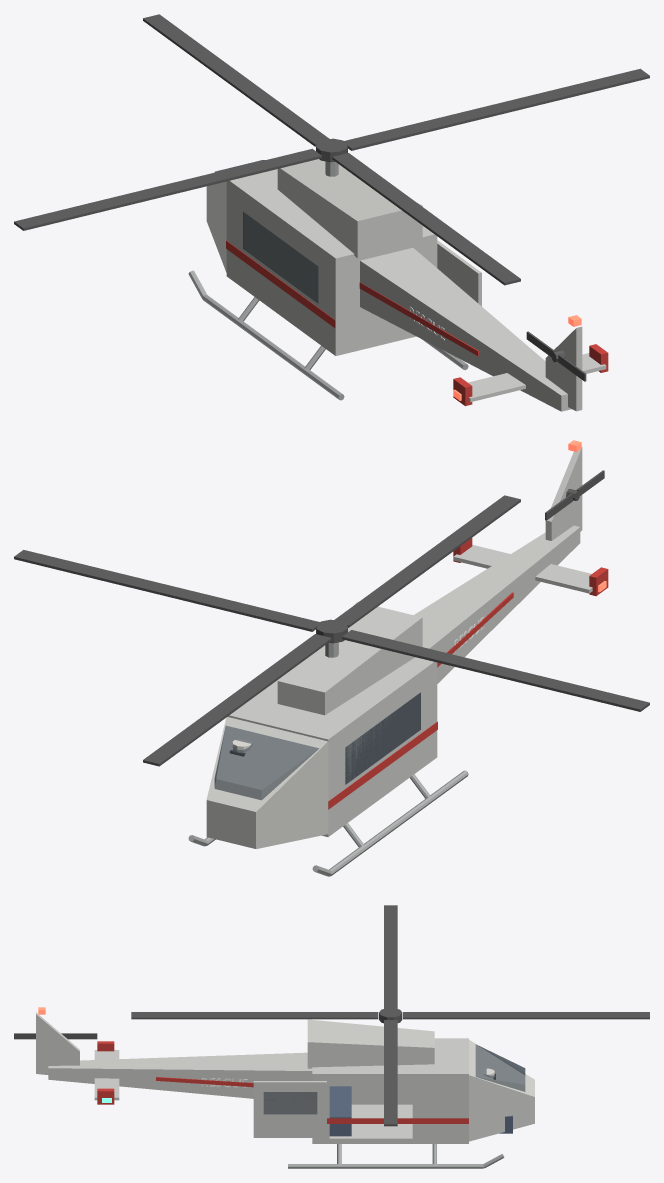
The model's file is helicopter.glb.
3 renders of one model, top to bottom at view 1: azimuth 30°, elevation 25°; view 2: azimuth 150°, elevation 25°; view 3: azimuth 270°, elevation 25°, orthographic. The views are drawn at different scales.
Parts seen in each view (by area): view 1: Body, MainRotor, TailRotor; view 2: Body, MainRotor, TailRotor; view 3: Body, MainRotor, TailRotor.
Part boxes in pixels (bbox=[...]): Body: bbox=[188, 159, 608, 411]; MainRotor: bbox=[14, 14, 649, 285]; TailRotor: bbox=[526, 331, 586, 381]; Body: bbox=[188, 440, 608, 876]; MainRotor: bbox=[14, 495, 649, 766]; TailRotor: bbox=[545, 470, 604, 520]; Body: bbox=[36, 1007, 534, 1168]; MainRotor: bbox=[131, 905, 649, 1126]; TailRotor: bbox=[14, 1033, 97, 1039].
Size of the model in its own units: 10.6 by 3.12 by 13.
